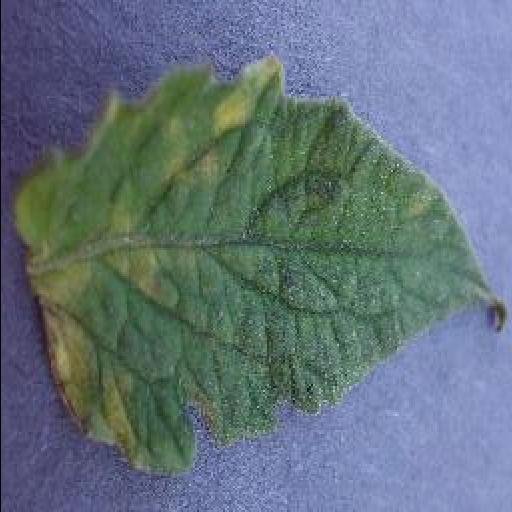disease_tomato: (9, 58, 507, 480)
